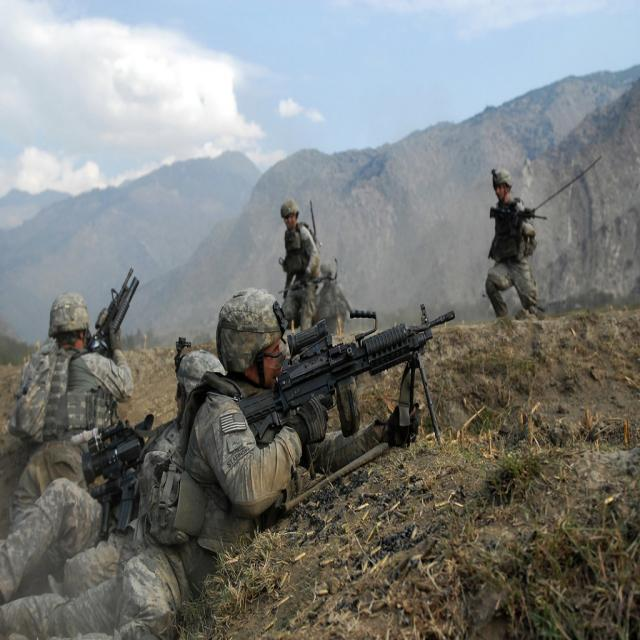weapon: (225, 301, 460, 486), (78, 418, 174, 540), (85, 265, 138, 414), (488, 200, 550, 249), (278, 268, 332, 294)
